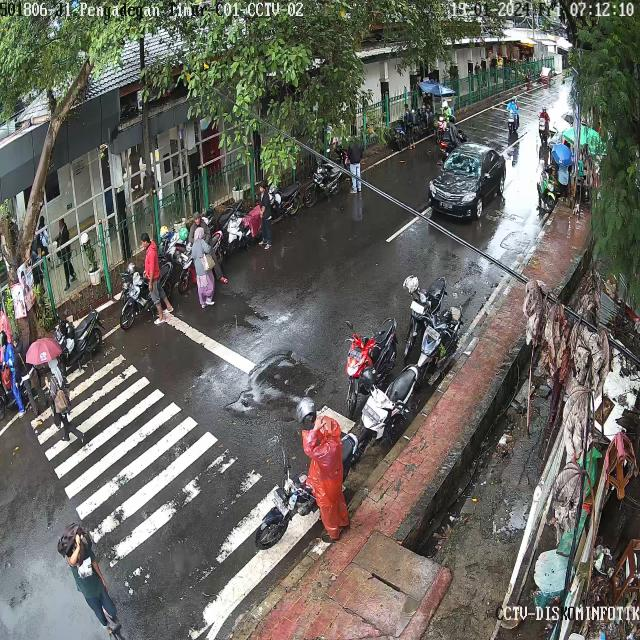Gerobak: (429, 95, 458, 131)
Payung: (22, 339, 65, 364), (416, 79, 458, 95), (546, 144, 573, 167), (560, 112, 575, 124)
